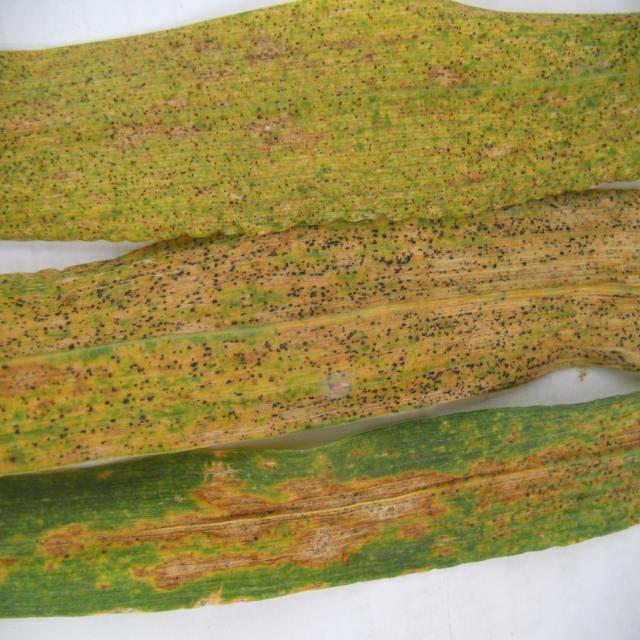wheat-septoria: (0, 189, 640, 478), (0, 0, 640, 244), (1, 396, 640, 603)
